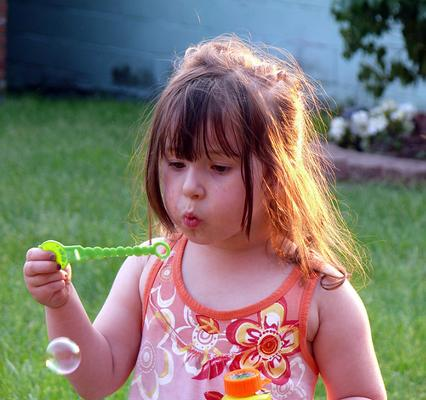person: (24, 38, 392, 400)
